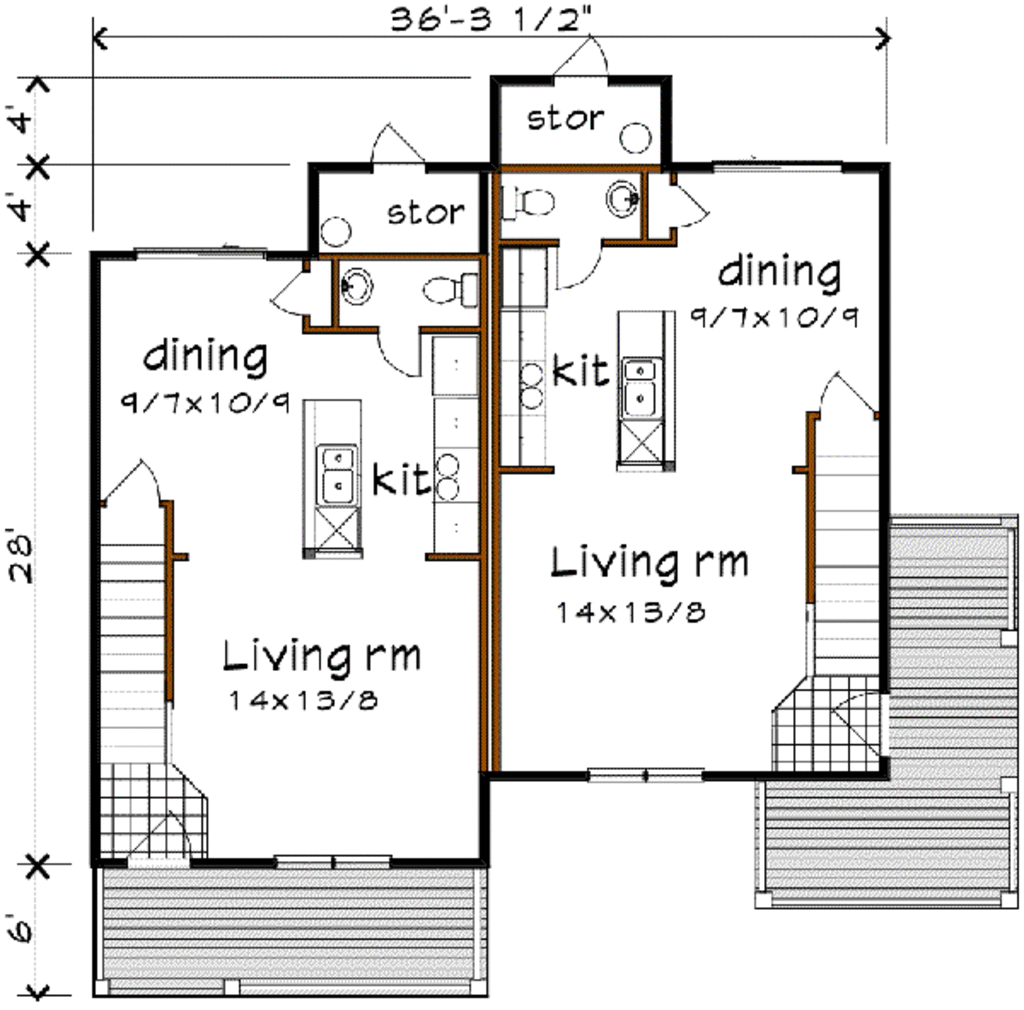door: (353, 115, 437, 176), (542, 29, 623, 90), (270, 260, 316, 327), (555, 235, 605, 296), (375, 329, 425, 385), (670, 179, 719, 232)
kitchen_bar: (287, 385, 373, 577), (619, 307, 675, 482)
large_sink: (497, 169, 559, 229), (420, 262, 487, 312)
small_sink: (333, 255, 380, 326), (598, 169, 637, 232)
stairs: (92, 502, 192, 766), (794, 429, 901, 673)
twin_sink: (301, 434, 367, 519), (611, 354, 675, 421)
window: (130, 232, 272, 266), (701, 148, 853, 177), (587, 763, 708, 787), (275, 846, 392, 869)
